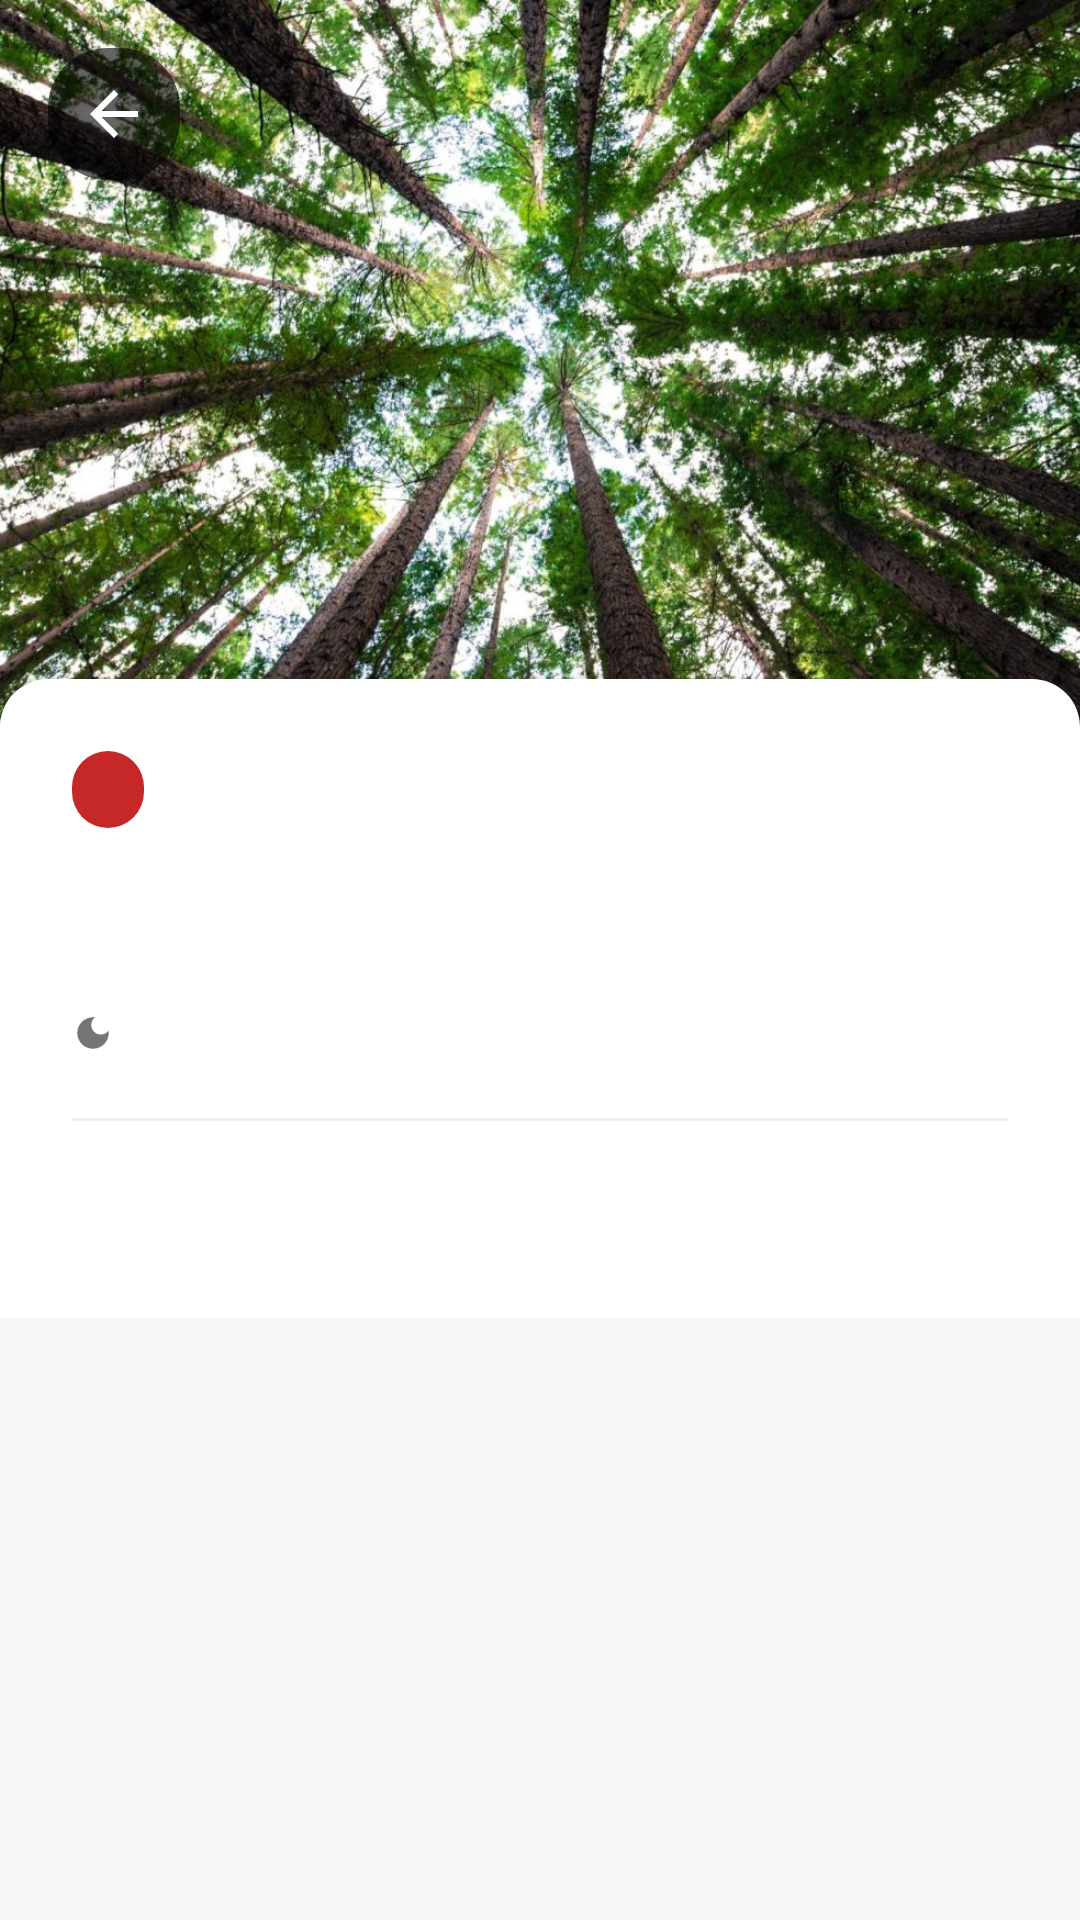

Screen size 1080w x 1920h. Icon name, then its center in pixels as (x,y):
arrow back: (114,114)
moon: (93,1033)
